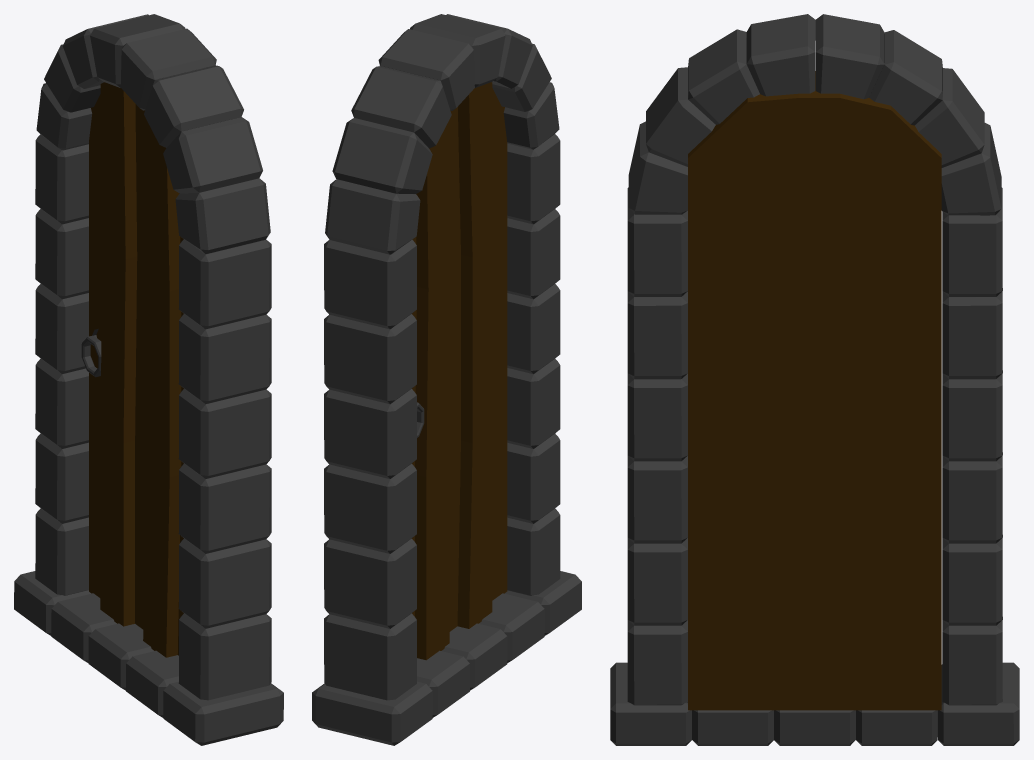
The model's file is Door.glb.
3 renders of one model, left to right at view 1: azimuth 30°, elevation 25°; view 2: azimuth 150°, elevation 25°; view 3: azimuth 270°, elevation 25°, orthographic. The views are drawn at different scales.
Visible parts, largest first — view 1: Door; view 2: Door; view 3: Door.
Boxes of the visible parts, x1,y1,x2,y2 form: Door: (14, 14, 283, 745); Door: (312, 14, 581, 745); Door: (610, 14, 1019, 745).
Bounding box in the file's own units: 0.3096 × 2.04 × 1.09.
